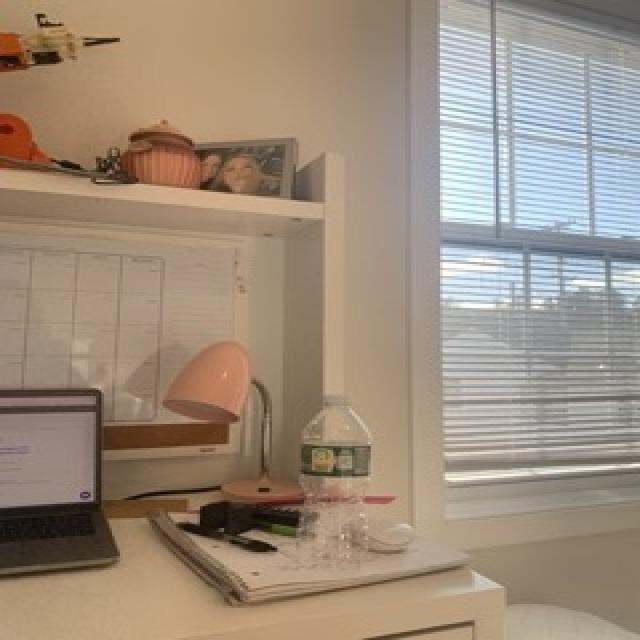water_bottle: (295, 390, 378, 574)
